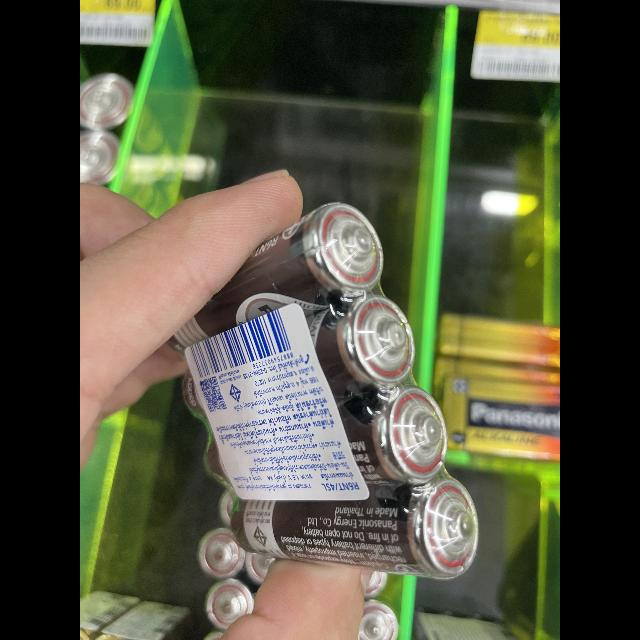battery: (150, 189, 390, 349), (225, 470, 507, 576), (306, 276, 426, 402), (345, 378, 467, 464)
